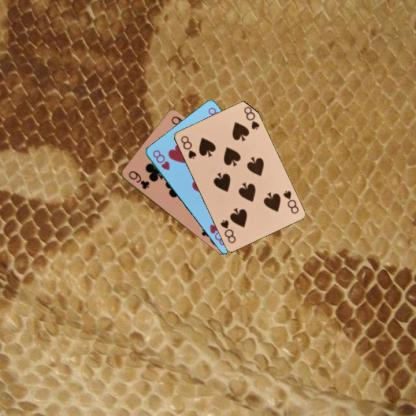8h: (150, 147, 171, 172)
8s: (280, 188, 300, 215), (178, 133, 197, 160)
9c: (125, 168, 151, 191)
